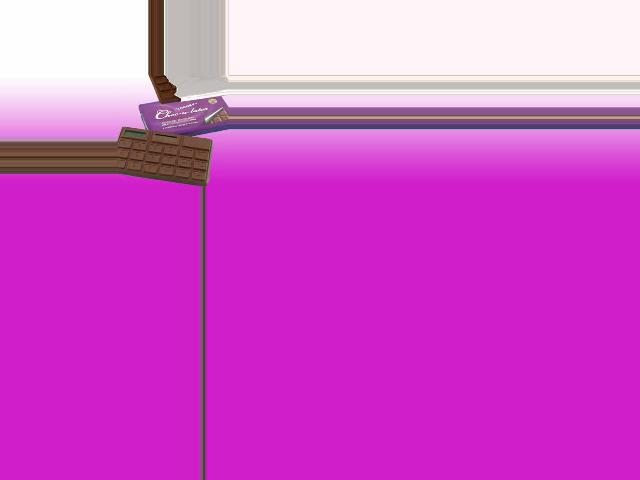chocolate: (120, 125, 211, 187)
